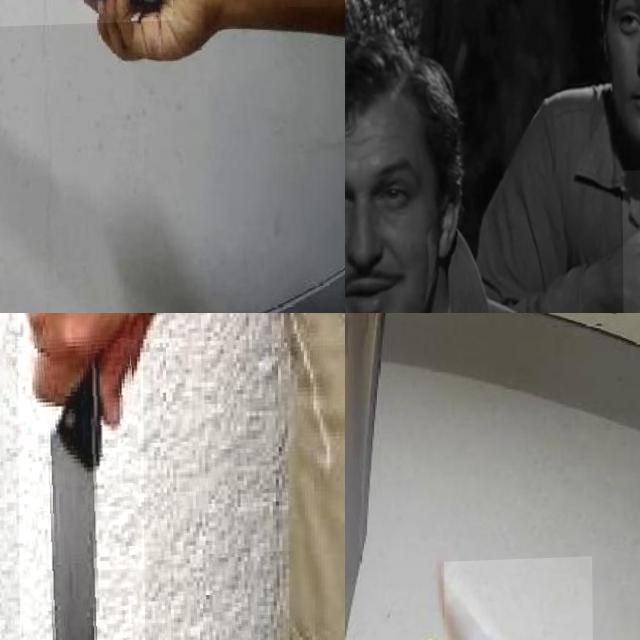-: (17, 313, 145, 640), (443, 559, 593, 640), (0, 0, 172, 57)
